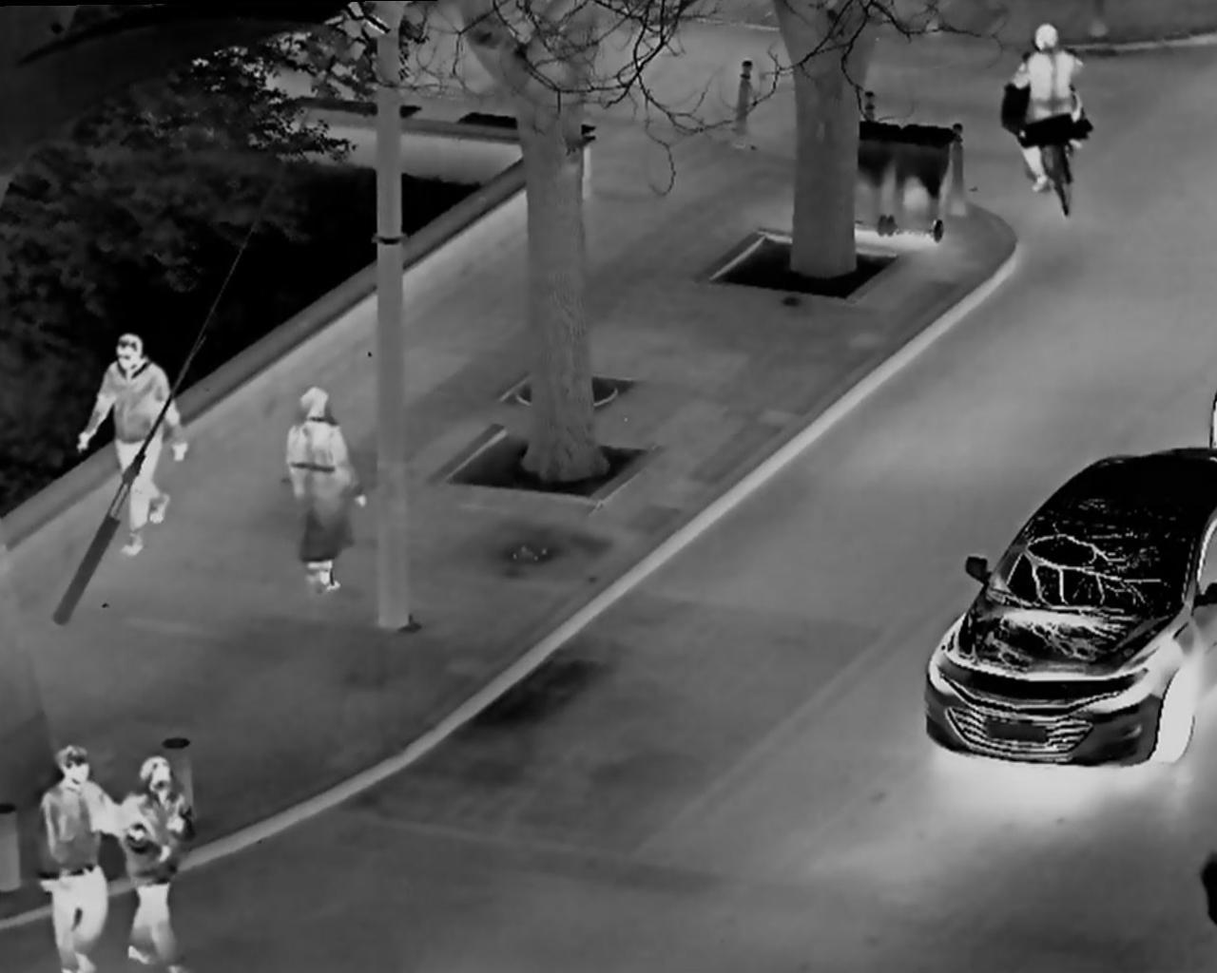person: (81, 319, 179, 556), (110, 753, 212, 973), (270, 380, 365, 611), (37, 731, 122, 973), (998, 15, 1083, 228)
